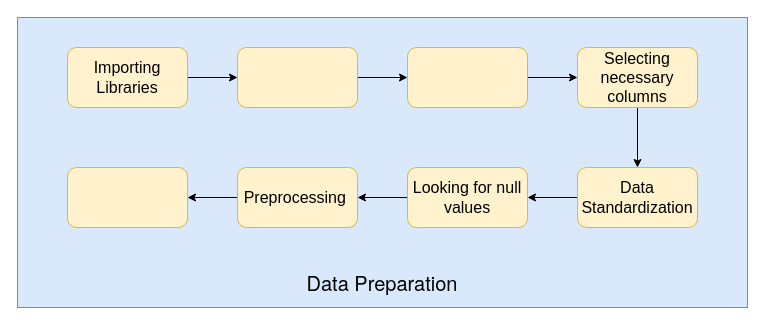
This 765x325 diagram has some shape labels left out. The centre of each missing label's shape, as x and y in pixels:
Data Description: pixel 467 77
Feature Selection: pixel 127 197
Loading Dataset: pixel 297 77
